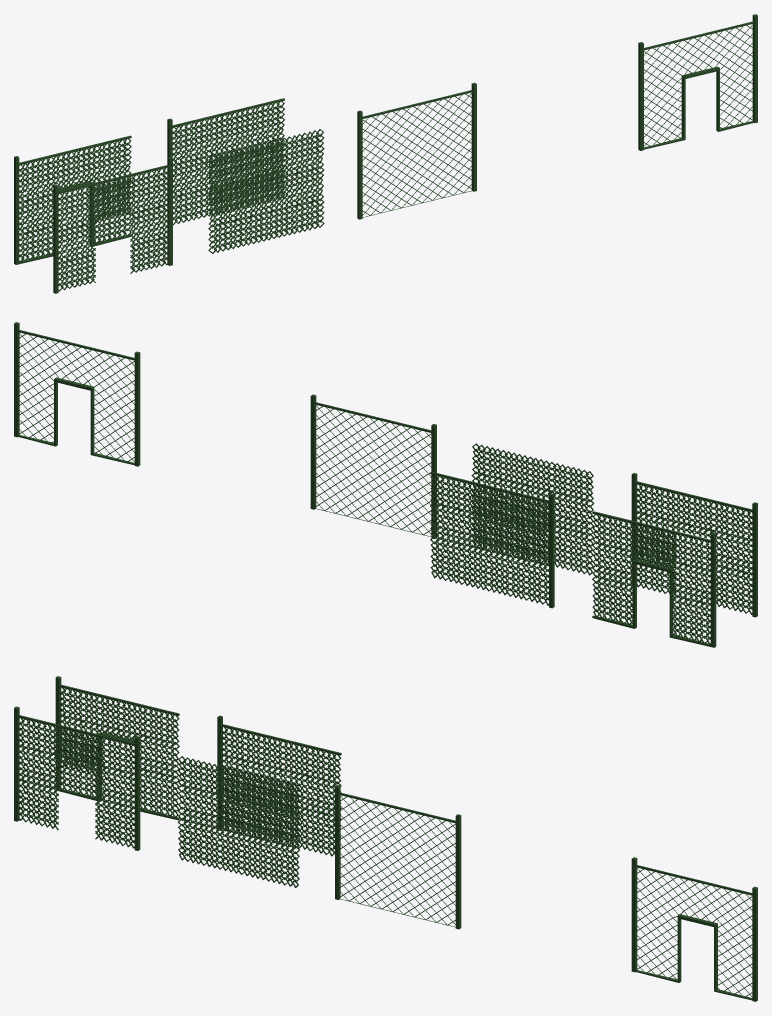
Rendered from footballFieldFence.glb.
3 views of the same model, one above another, from view 1: azimuth 30°, elevation 25°; view 2: azimuth 150°, elevation 25°; view 3: azimuth 330°, elevation 25° (orthographic). The views are drawn at different scales.
Parts seen in each view (by area): view 1: IgralishteFence, IgralishteDoor, Cube.002, Plane.001, Cube.093, Cube.048; view 2: IgralishteFence, IgralishteDoor, Cube.002, Plane.001, Cube.093; view 3: IgralishteFence, IgralishteDoor, Plane.001, Cube.002, Cube.048, Cube.093.
Boxes of the visible parts, x1,y1,x2,y2 form: IgralishteFence: (167,98,284,225); IgralishteDoor: (14,135,131,264); Cube.002: (638,14,757,150); Plane.001: (357,82,476,219); Cube.093: (53,184,58,293); Cube.048: (167,157,172,265); IgralishteFence: (430,471,554,608); IgralishteDoor: (592,511,716,647); Cube.002: (14,322,140,466); Plane.001: (310,394,436,538); Cube.093: (752,502,757,617); IgralishteFence: (217,715,341,856); IgralishteDoor: (55,676,179,820); Plane.001: (335,785,461,929); Cube.002: (631,857,757,1001); Cube.048: (134,736,140,850); Cube.093: (14,706,19,821).
Size of the model in its own units: 82.5 by 12.05 by 8.45.
